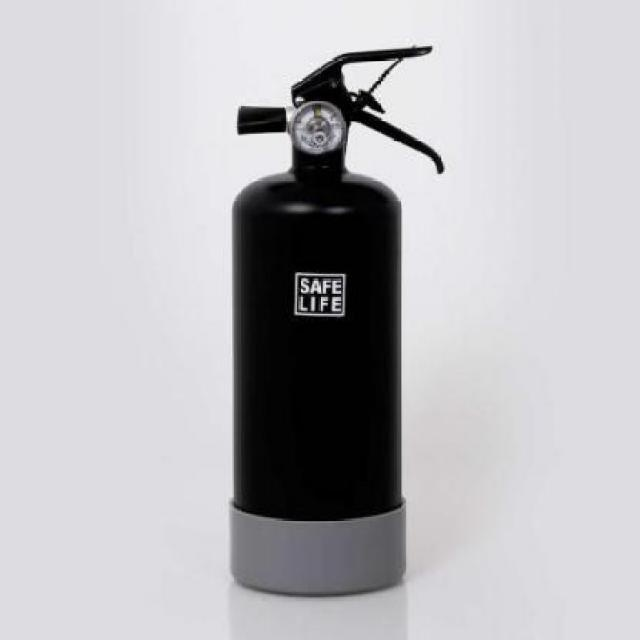fire extinguisher: (228, 45, 443, 598)
